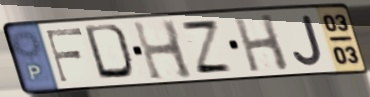D: (81, 22, 139, 82)
F: (44, 26, 86, 85)
H: (130, 19, 198, 83), (231, 12, 293, 74)
J: (290, 13, 325, 68)
Z: (177, 19, 237, 76)
